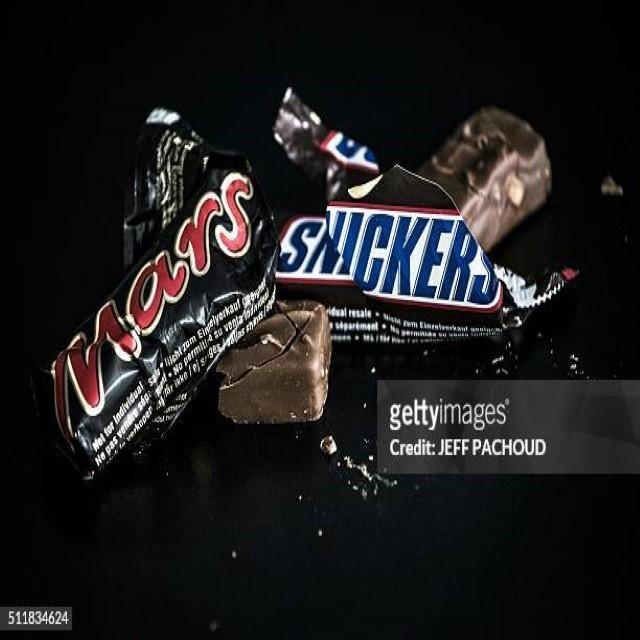mars_chocolate: (89, 153, 274, 497)
snickers_chocolate: (283, 194, 567, 338)
